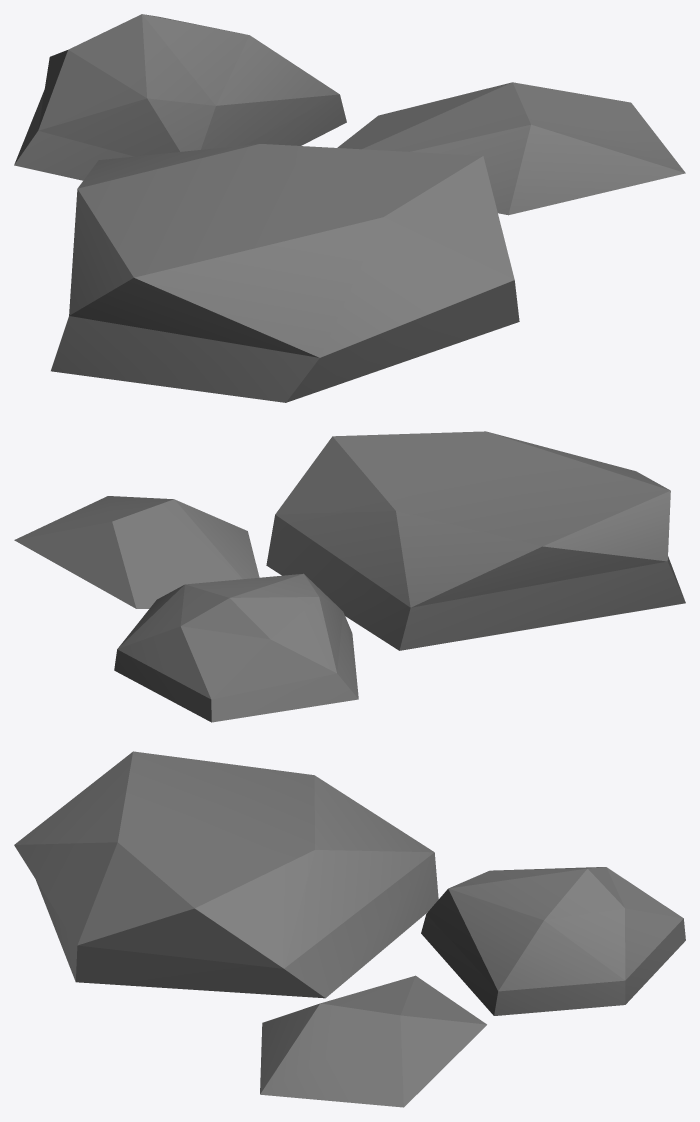
File: rock2.glb
3 renders of one model, top to bottom at view 1: azimuth 30°, elevation 25°; view 2: azimuth 150°, elevation 25°; view 3: azimuth 270°, elevation 25°, orthographic. The views are drawn at different scales.
Visible parts, largest first — view 1: rock2; view 2: rock2; view 3: rock2.
Boxes of the visible parts, x1,y1,x2,y2 form: rock2: [14, 14, 685, 402]; rock2: [14, 431, 685, 722]; rock2: [14, 751, 685, 1107].
Bounding box in the file's own units: 1.03 × 0.1607 × 1.01.
1 material, 1 textured.
